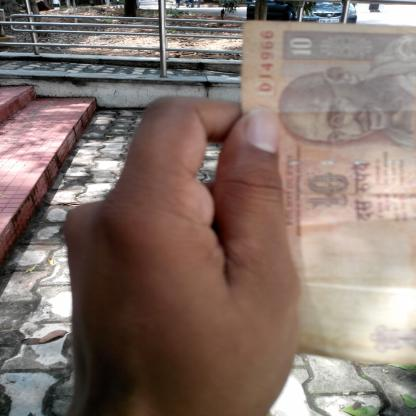Old10Front: (242, 20, 416, 362)
